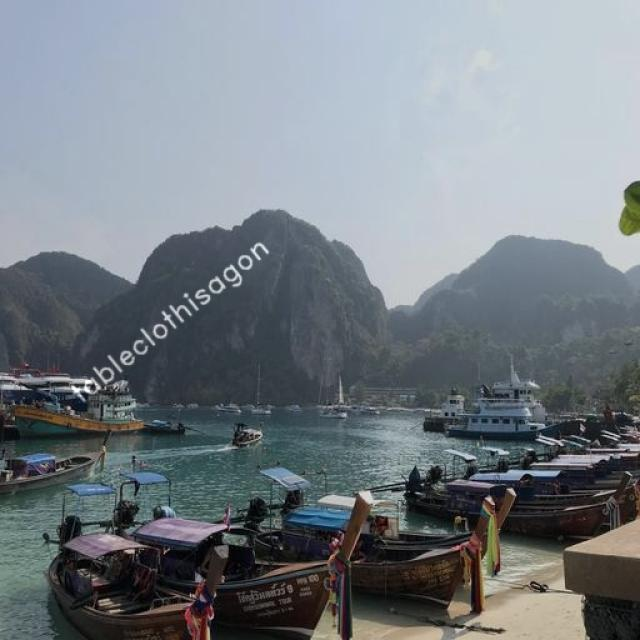watermark: (72, 226, 270, 409)
